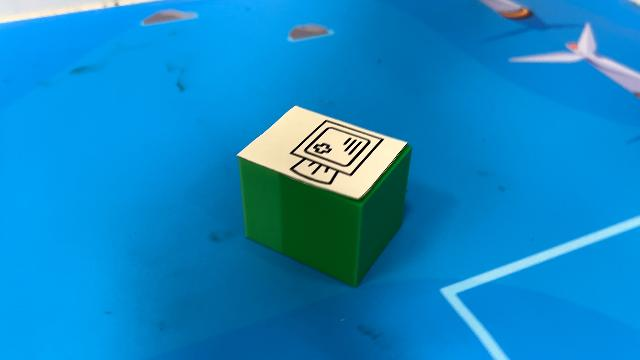napkin: (234, 103, 413, 288)
